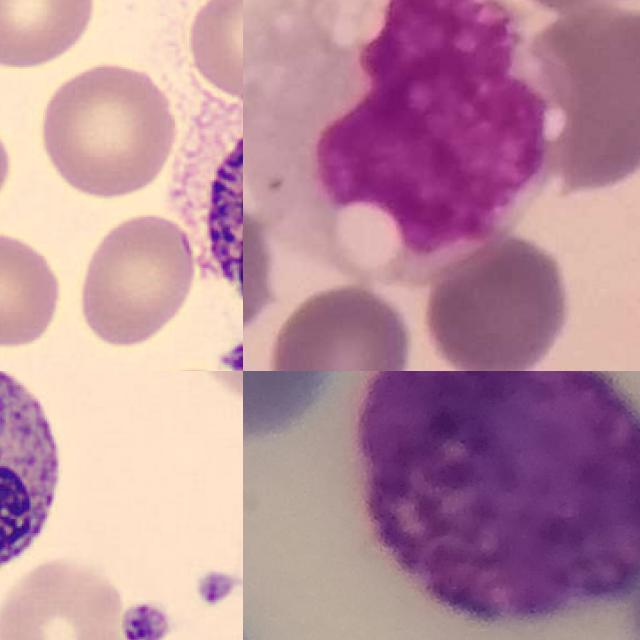Basophil: (357, 371, 640, 625), (176, 81, 243, 354)
Monocyte: (243, 0, 549, 255), (0, 371, 73, 601)
Platelets: (116, 598, 174, 640), (191, 563, 241, 611), (217, 338, 243, 371)
RBC: (33, 58, 180, 201), (72, 208, 200, 351), (0, 552, 130, 640), (0, 226, 66, 351), (0, 0, 98, 70), (182, 0, 243, 102)
